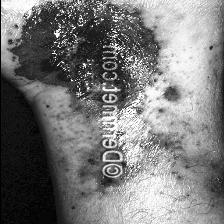Toxin: (28, 28, 86, 74), (155, 84, 189, 104)
